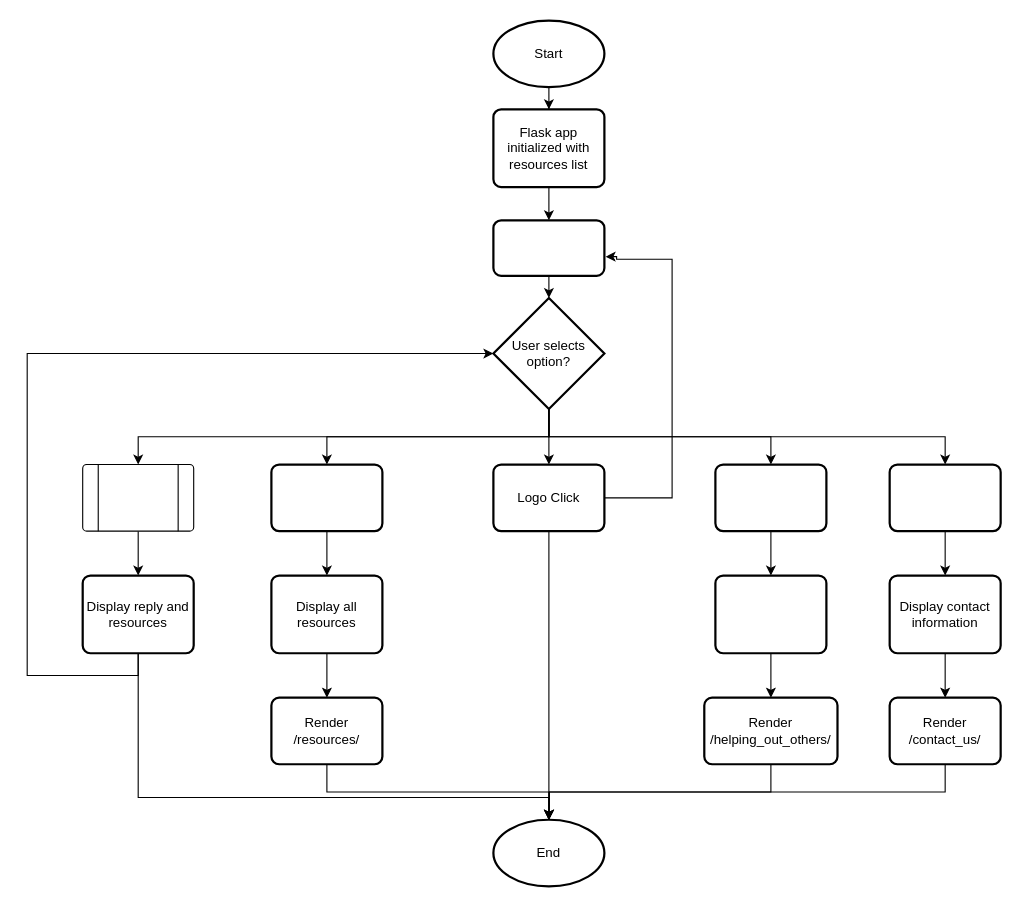
This 1021x906 diagram has some shape labels left out. Here are the shapes that lost their labels. From the top down, the box of each, then its label:
(492, 219, 605, 276): Home page ("/") displayed
(82, 463, 194, 531): Chat bot
(270, 463, 383, 532): View Resources
(714, 463, 827, 532): Helping Out Others
(888, 463, 1001, 532): Contact Us
(714, 574, 827, 654): Display all helping others resources
